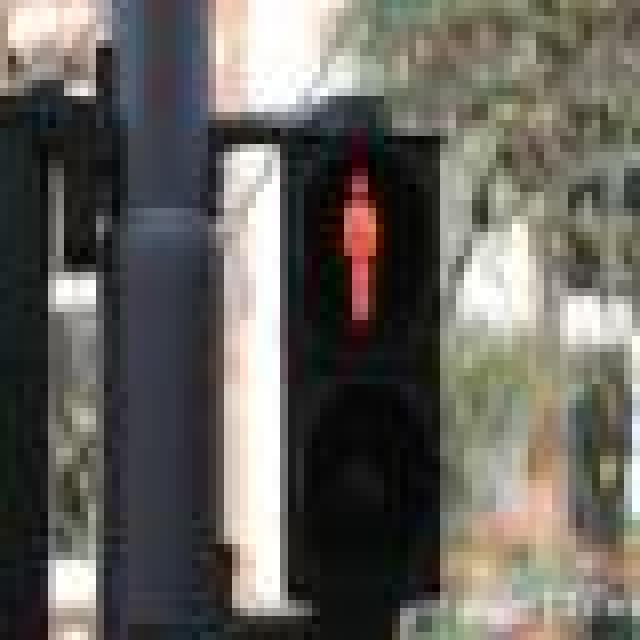redlight: (256, 128, 448, 632)
